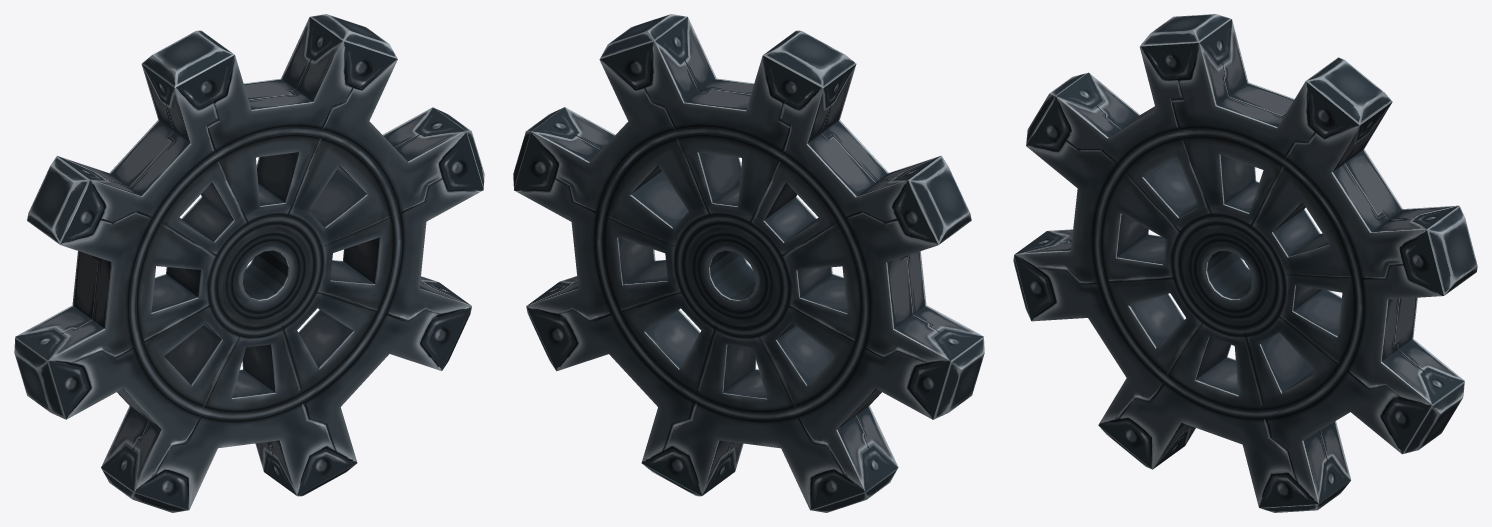
The model's file is rouage.fbx.
3 renders of one model, left to right at view 1: azimuth 30°, elevation 25°; view 2: azimuth 150°, elevation 25°; view 3: azimuth 330°, elevation 25°, orthographic.
Parts seen in each view (by area): view 1: rouage; view 2: rouage; view 3: rouage.
Part boxes in pixels (<box>): rouage: <box>14,14,484,512</box>; rouage: <box>513,14,984,512</box>; rouage: <box>1013,14,1477,512</box>.
Bounding box in the file's own units: 126 × 126 × 16.6.
